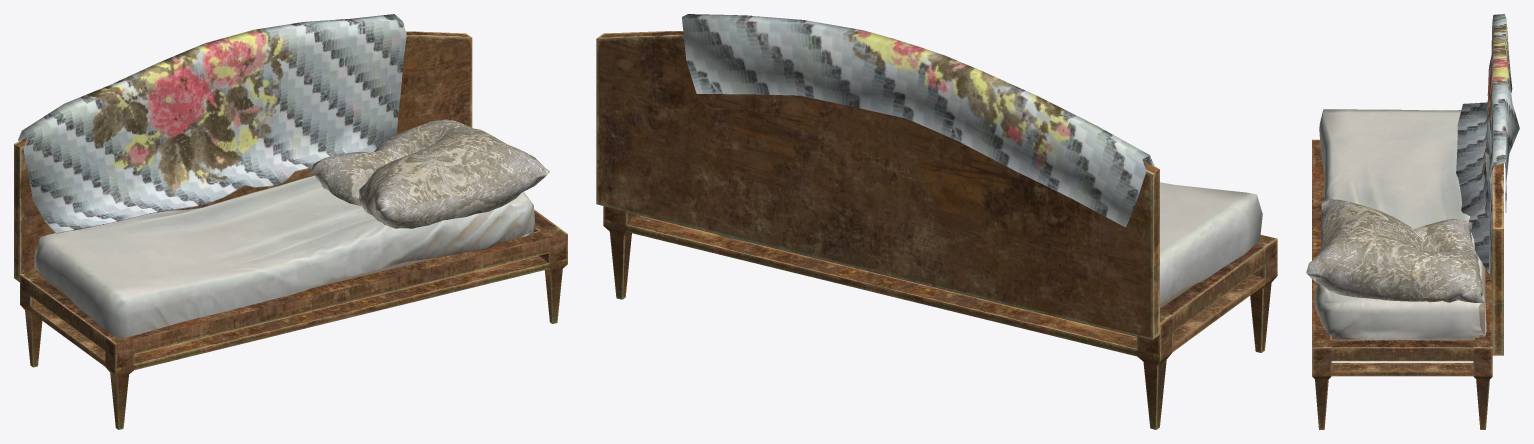
Rendered from bed-02.glb.
The picture shows the model from 3 angles, left to right: view 1: azimuth 30°, elevation 25°; view 2: azimuth 150°, elevation 25°; view 3: azimuth 270°, elevation 25°; orthographic projection. The views are drawn at different scales.
Visible parts, largest first — view 1: vintage_day_bed; view 2: vintage_day_bed; view 3: vintage_day_bed.
Part boxes in pixels (x1=…): vintage_day_bed: x1=14, y1=14, x2=567, y2=429; vintage_day_bed: x1=596, y1=14, x2=1277, y2=429; vintage_day_bed: x1=1306, y1=14, x2=1519, y2=429.
Size of the model in its own units: 1.97 by 1.13 by 0.8547.
1 material, 1 textured.
